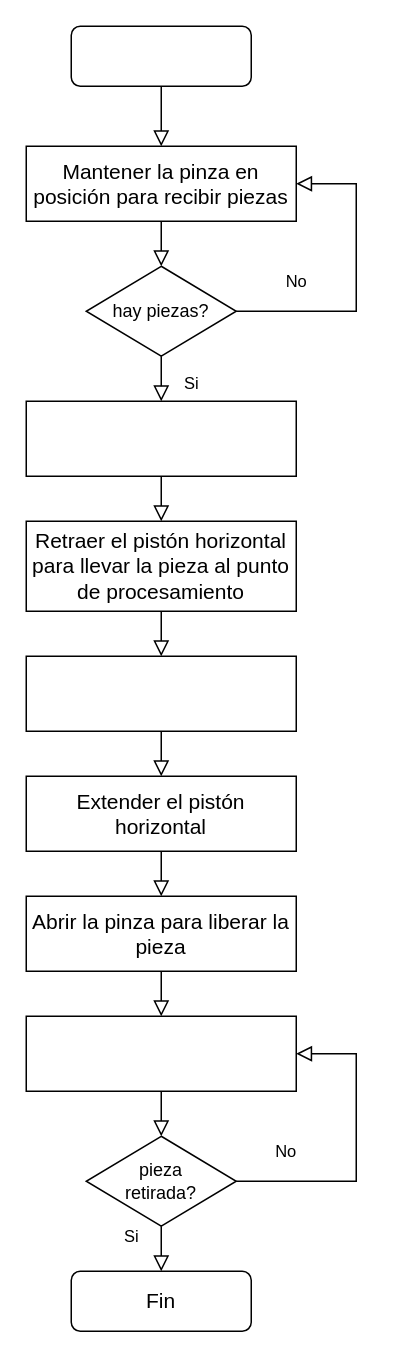
Some shapes in this 398 by 1358 pixel diagram are drawn without their labels. Each missing label, with the centre of its shape:
Extender el pistón delgado sobre la pieza y retraerlo: point (160, 693)
Indicar finalización de la actividad: point (160, 1053)
Procesamiento: point (160, 55)
Sujetar la pieza cerrando la pinza: point (160, 438)
